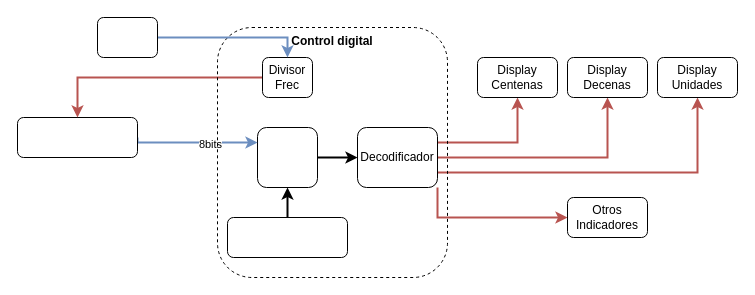
Some shapes in this 755 by 295 pixel diagram are drawn without their labels. Here are the shapes that lost their labels. From the top down, the box of each, then its label:
(96, 16, 158, 58): MCLK
(16, 116, 138, 158): ADC
(256, 126, 318, 188): sumador
(226, 216, 348, 258): Valor constante de corrección por diodos
